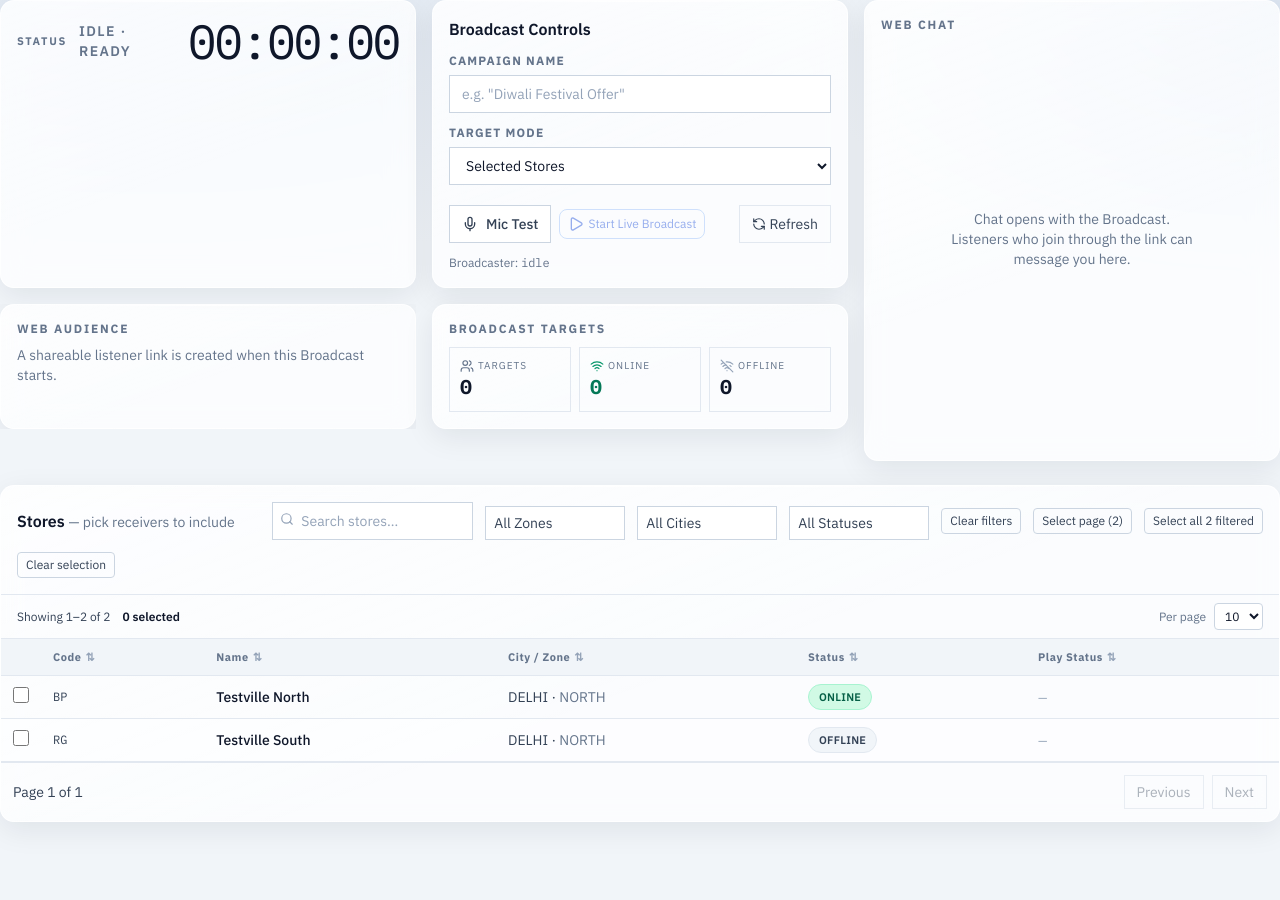
it: Only With Link can go live with no Stores chosen
This screenshot has width=1280, height=900.
Select "Only With Link" in the dropdown with test id "target-mode-select": (640, 166) [449,147,831,185]
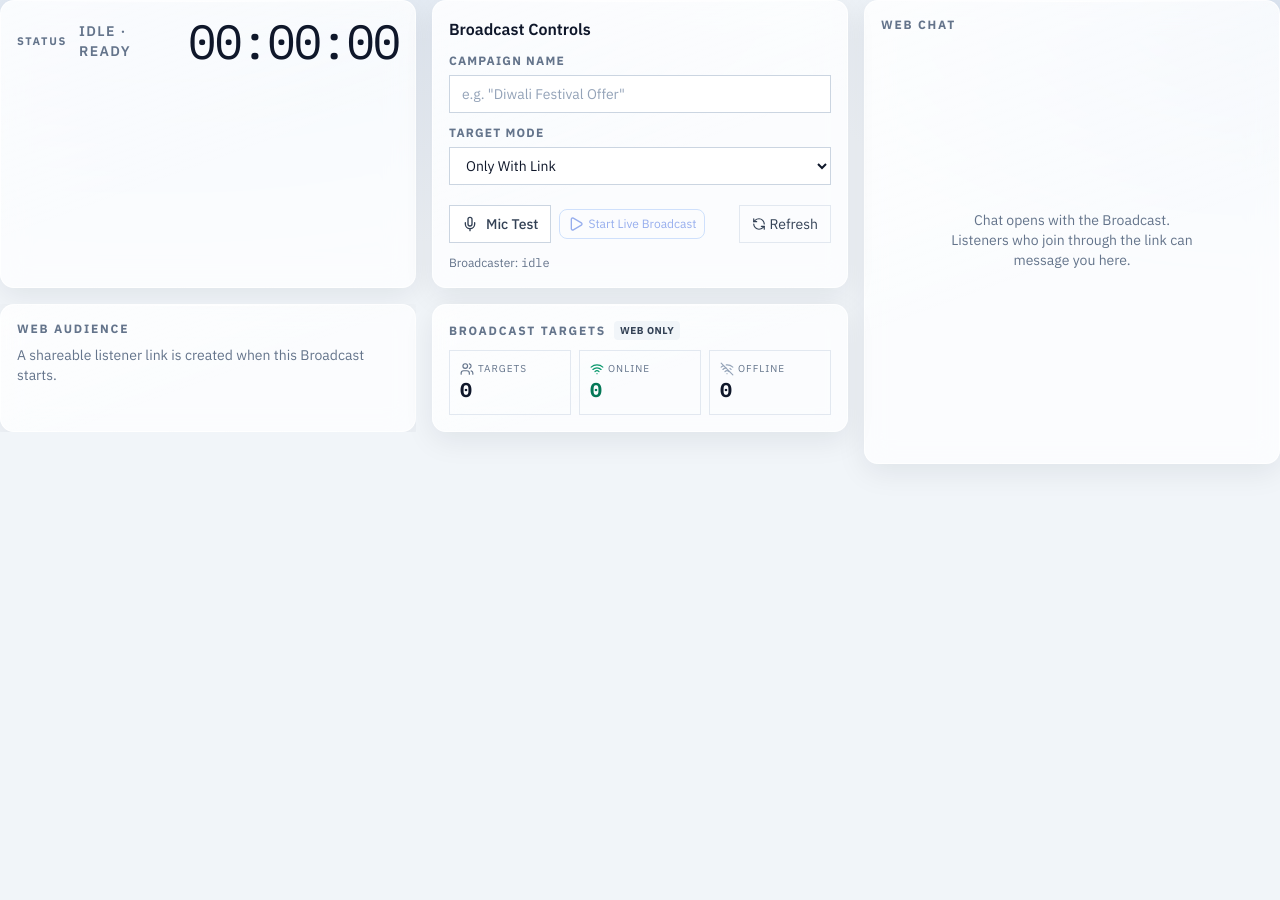
In the field with test id "campaign-name-input": (640, 94) [449,75,831,113], type "Link only announcement"
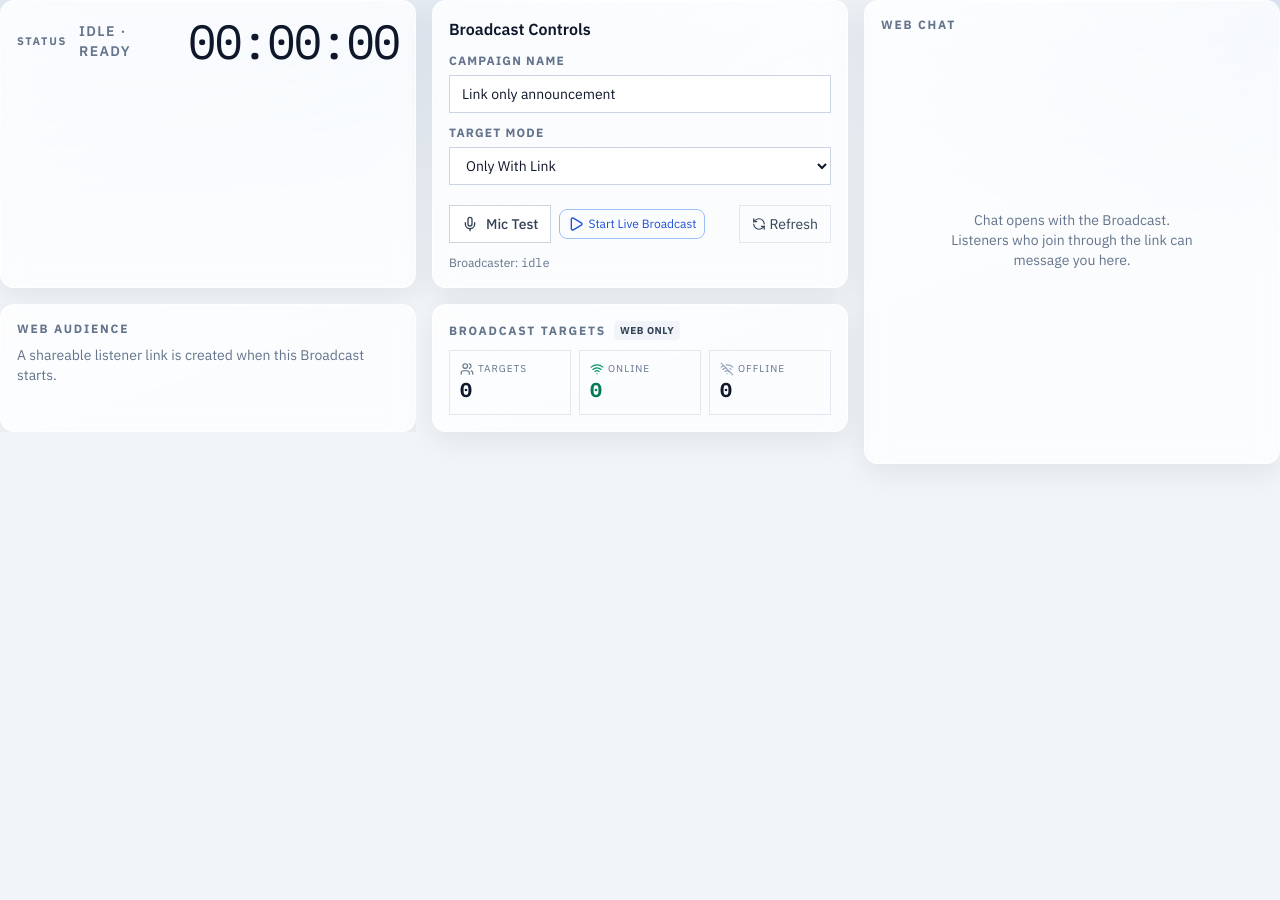
Expected: the button with test id "start-broadcast-btn" is enabled, [559,209,705,239]
